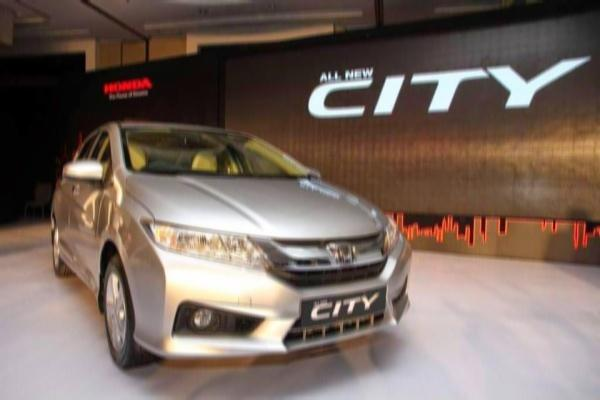Car hood: (122, 172, 393, 241)
Driver-s door - -F-R-: (73, 124, 113, 281)
Fender - -F-R-: (93, 159, 153, 292)
Front bumper: (131, 270, 424, 370)
Headlight - -L-: (370, 213, 406, 257)
Headlight - -R-: (135, 212, 272, 277)
Passenger-s door - -R-R-: (57, 126, 85, 267)
Side bumper - -R-: (53, 237, 104, 317)
Side mirror - -L-: (299, 161, 327, 181)
Side mirror - -R-: (57, 158, 110, 186)
